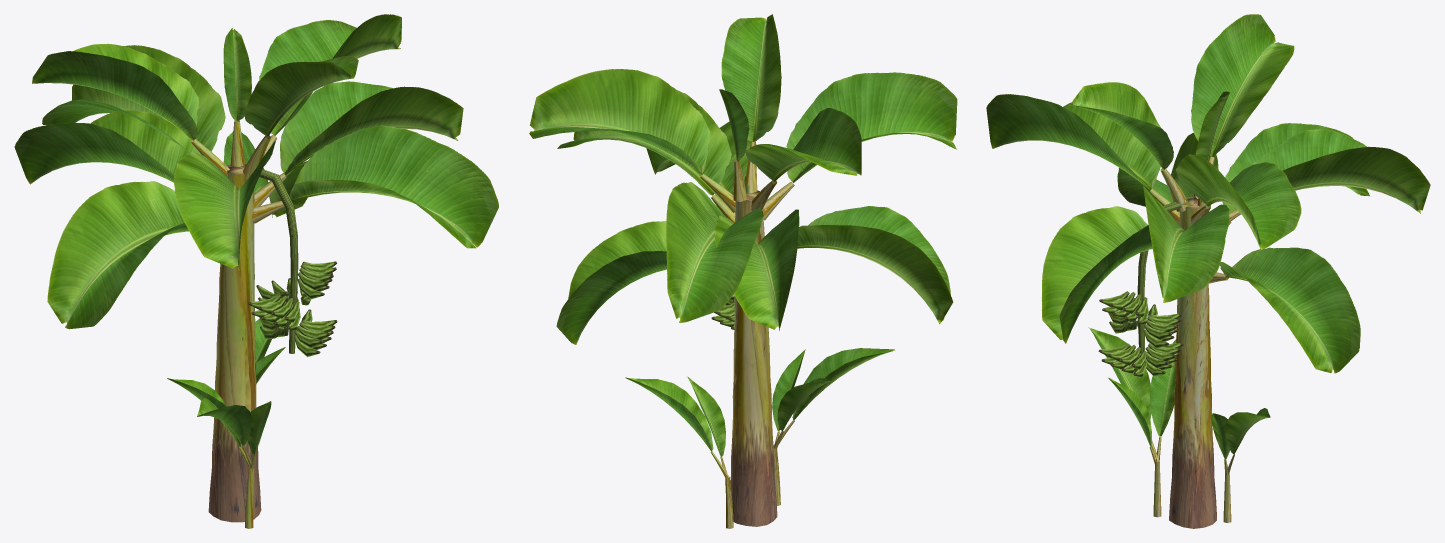
File: BananaTree_B.fbx
3 views of the same model, side by side, from view 1: azimuth 30°, elevation 25°; view 2: azimuth 150°, elevation 25°; view 3: azimuth 270°, elevation 25° (orthographic). The views are drawn at different scales.
Visible parts, largest first — view 1: BananaTree_B_LOD0; view 2: BananaTree_B_LOD0; view 3: BananaTree_B_LOD0.
Boxes of the visible parts, x1,y1,x2,y2 form: BananaTree_B_LOD0: [14, 14, 498, 528]; BananaTree_B_LOD0: [529, 14, 957, 528]; BananaTree_B_LOD0: [986, 14, 1430, 528].
Size of what is drawn, in the model's own units: 3.29 by 3.71 by 3.33.
